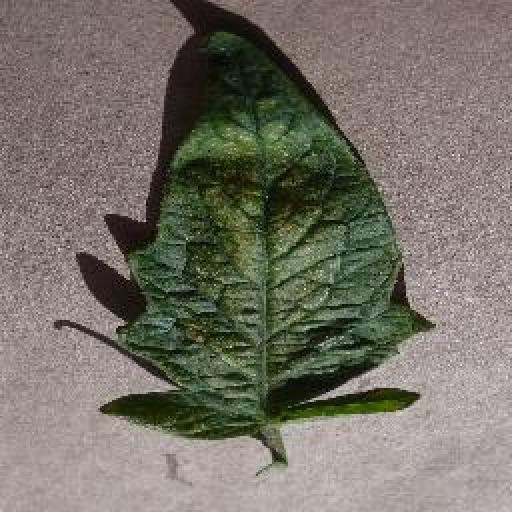disease_tomato: (96, 26, 436, 438)
